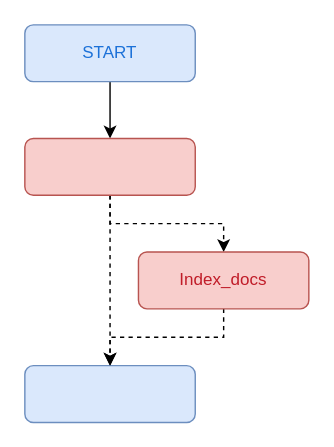
Some shapes in this 334 by 447 pixel diagram are drawn without their labels. Each missing label, with the centre of its shape:
END: pixel 109 393
Parse_pdf: pixel 109 166
